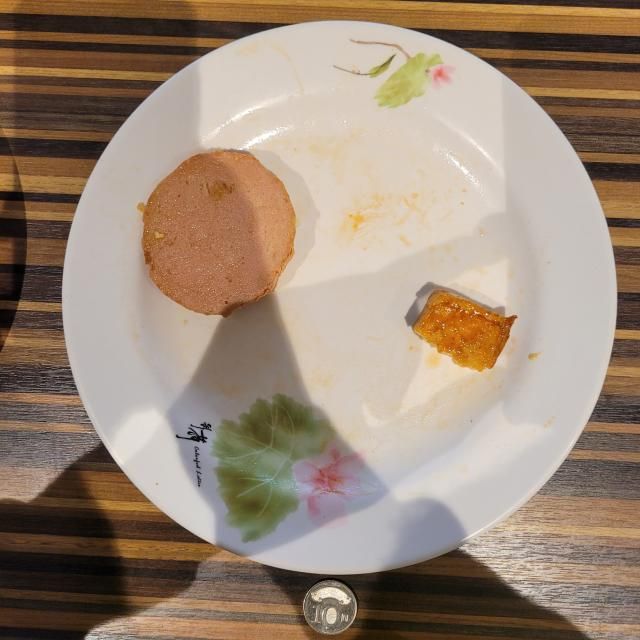Spam: (139, 150, 295, 318)
coin: (304, 579, 358, 635)
creamy tofu: (412, 289, 516, 371)
